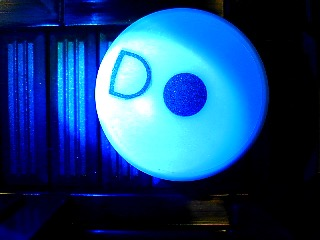BOHOMIPO1: (94, 6, 270, 182)
